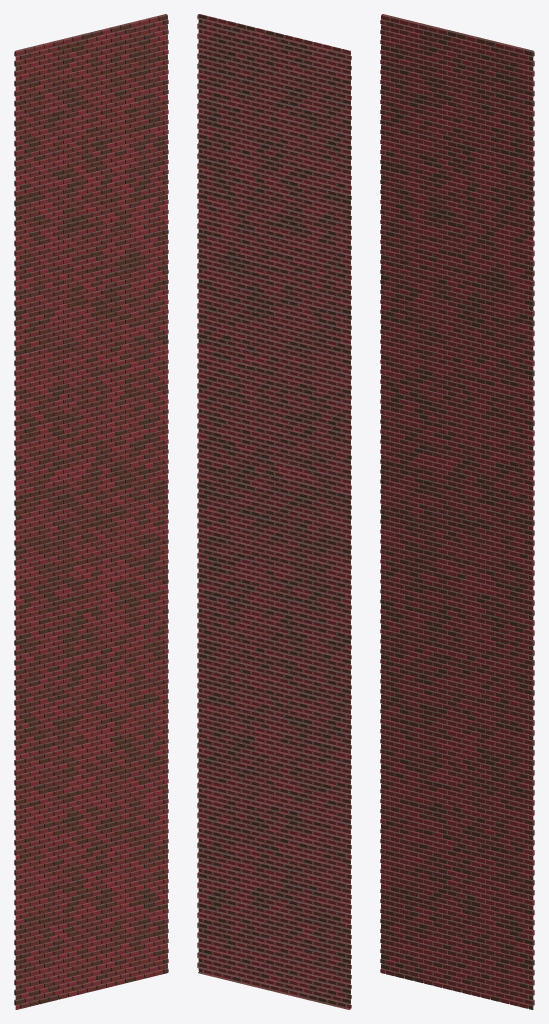
Rendered from chimney_wall.fbx.
The picture shows the model from 3 angles, left to right: view 1: azimuth 30°, elevation 25°; view 2: azimuth 150°, elevation 25°; view 3: azimuth 330°, elevation 25°; orthographic projection.
Visible parts, largest first — view 1: BrickWall; view 2: BrickWall; view 3: BrickWall.
Boxes of the visible parts, box(x1,y1,x2,y2) form: BrickWall: box(14, 14, 168, 1009); BrickWall: box(197, 14, 351, 1009); BrickWall: box(380, 14, 534, 1009).
Size of the model in its own units: 2 by 0.03 by 12.
Materials: 1 (1 with a texture image).
